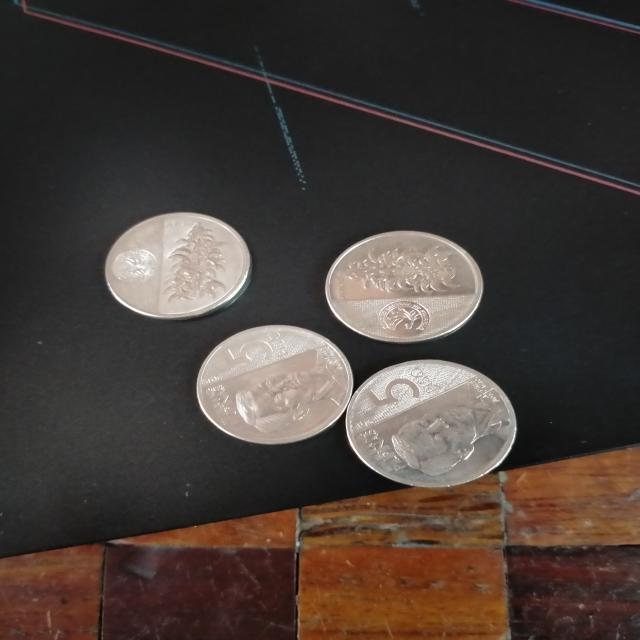5_New_Front: (355, 365, 430, 418)
